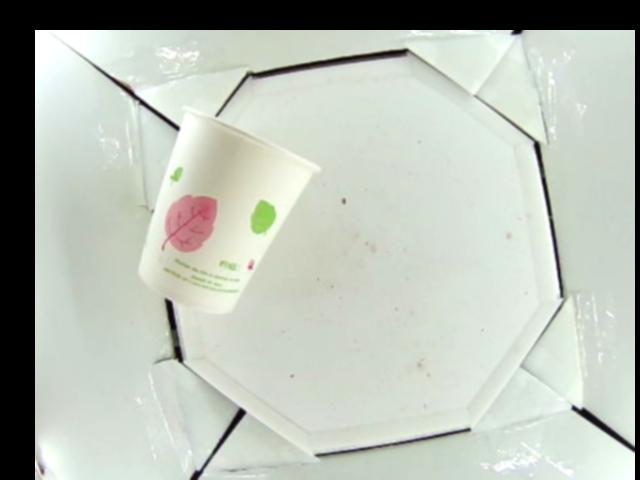Cup: (137, 100, 320, 316)
